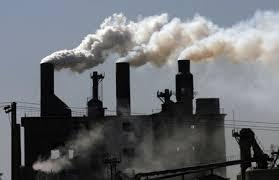smoke: (30, 6, 279, 69)
